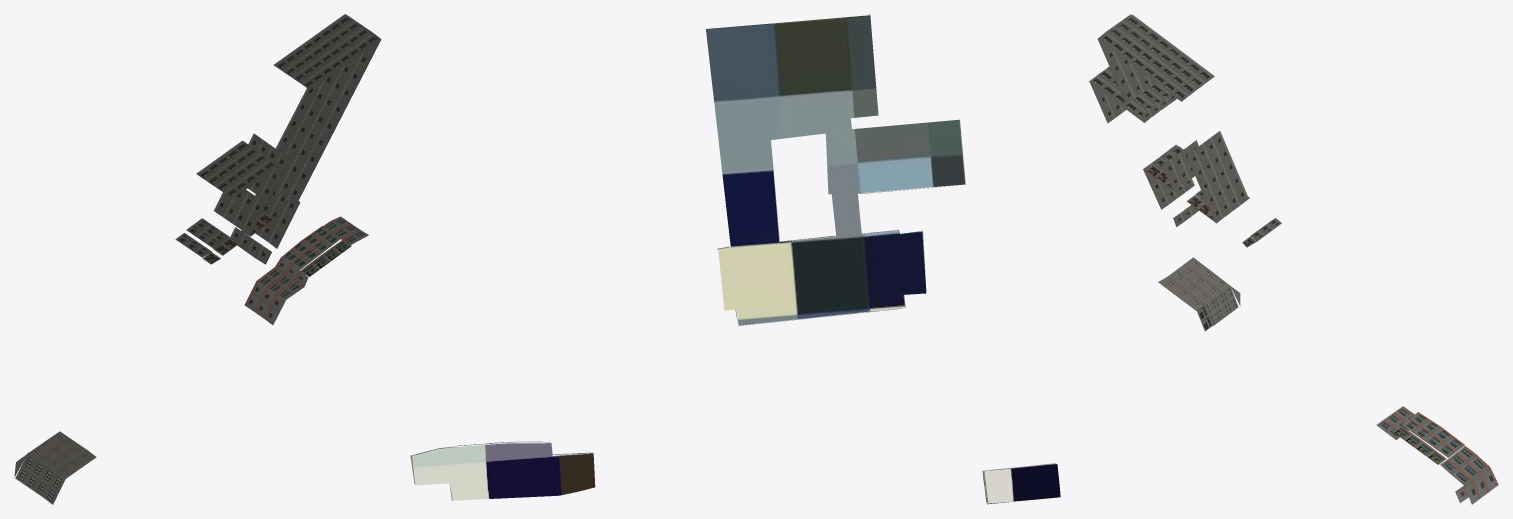
File: tile_LOD4_r3_c2.glb
The picture shows the model from 3 angles, left to right: view 1: azimuth 30°, elevation 25°; view 2: azimuth 150°, elevation 25°; view 3: azimuth 270°, elevation 25°; orthographic projection. The views are drawn at different scales.
Bounding box in the file's own units: 161 × 128 × 122.
Materials: 15 (15 with a texture image).
